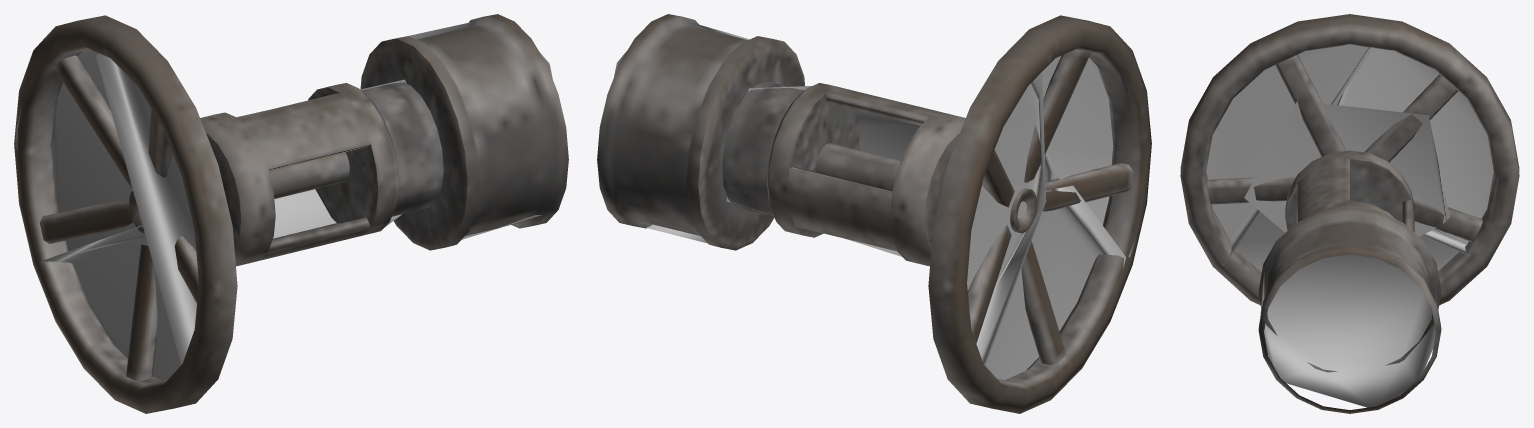
File: SM_Pipe_Valve.gltf
3 renders of one model, left to right at view 1: azimuth 30°, elevation 25°; view 2: azimuth 150°, elevation 25°; view 3: azimuth 270°, elevation 25°, orthographic. The views are drawn at different scales.
Parts seen in each view (by area): view 1: SM_Pipe_Valve_LOD0, SM_Pipe_Valve_ConvexHulls; view 2: SM_Pipe_Valve_LOD0, SM_Pipe_Valve_ConvexHulls; view 3: SM_Pipe_Valve_ConvexHulls, SM_Pipe_Valve_LOD0.
Boxes of the visible parts, x1=… form: SM_Pipe_Valve_LOD0: x1=14, y1=14, x2=568, y2=413; SM_Pipe_Valve_ConvexHulls: x1=16, y1=22, x2=552, y2=380; SM_Pipe_Valve_LOD0: x1=597, y1=14, x2=1151, y2=413; SM_Pipe_Valve_ConvexHulls: x1=614, y1=22, x2=1136, y2=380; SM_Pipe_Valve_ConvexHulls: x1=1206, y1=44, x2=1493, y2=407; SM_Pipe_Valve_LOD0: x1=1180, y1=14, x2=1519, y2=413.
Size of what is drawn, in the model's own units: 0.1603 by 0.1365 by 0.1365.
